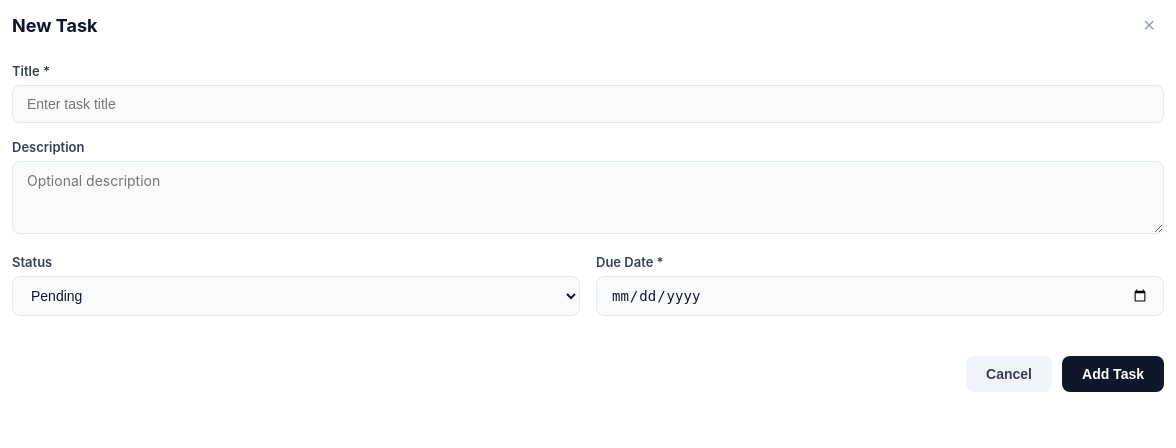
TaskForm Component › displays validation errors and blocks submission if fields fail validation
Click the button "Add Task".
click(1113, 374)  # box [1062,356,1164,392]
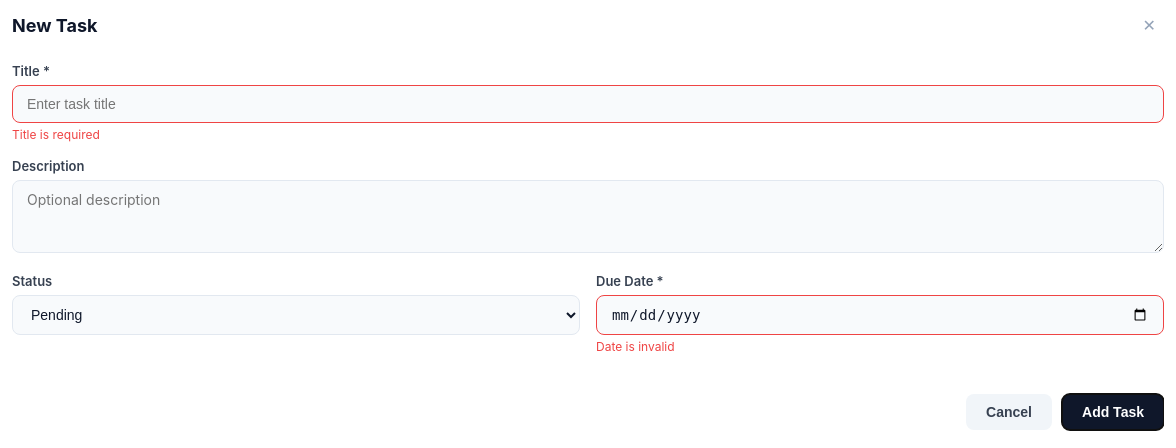
Result: the text "Title is required" is shown at [12,127,100,142]
Result: the text "Date is invalid" is shown at [596,339,675,354]
